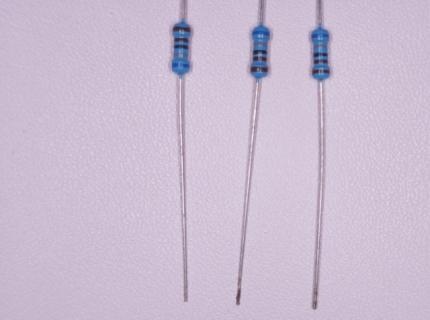Black band: (173, 45, 189, 50), (253, 50, 267, 55), (314, 52, 328, 57)
Blue band: (252, 30, 270, 36), (311, 33, 329, 39), (172, 63, 191, 68)
Brown band: (250, 66, 269, 73), (173, 26, 191, 32), (174, 37, 189, 43), (252, 56, 267, 62), (312, 69, 330, 74), (314, 59, 328, 65)
Grey band: (253, 42, 268, 47), (174, 53, 188, 58), (313, 45, 327, 49)
